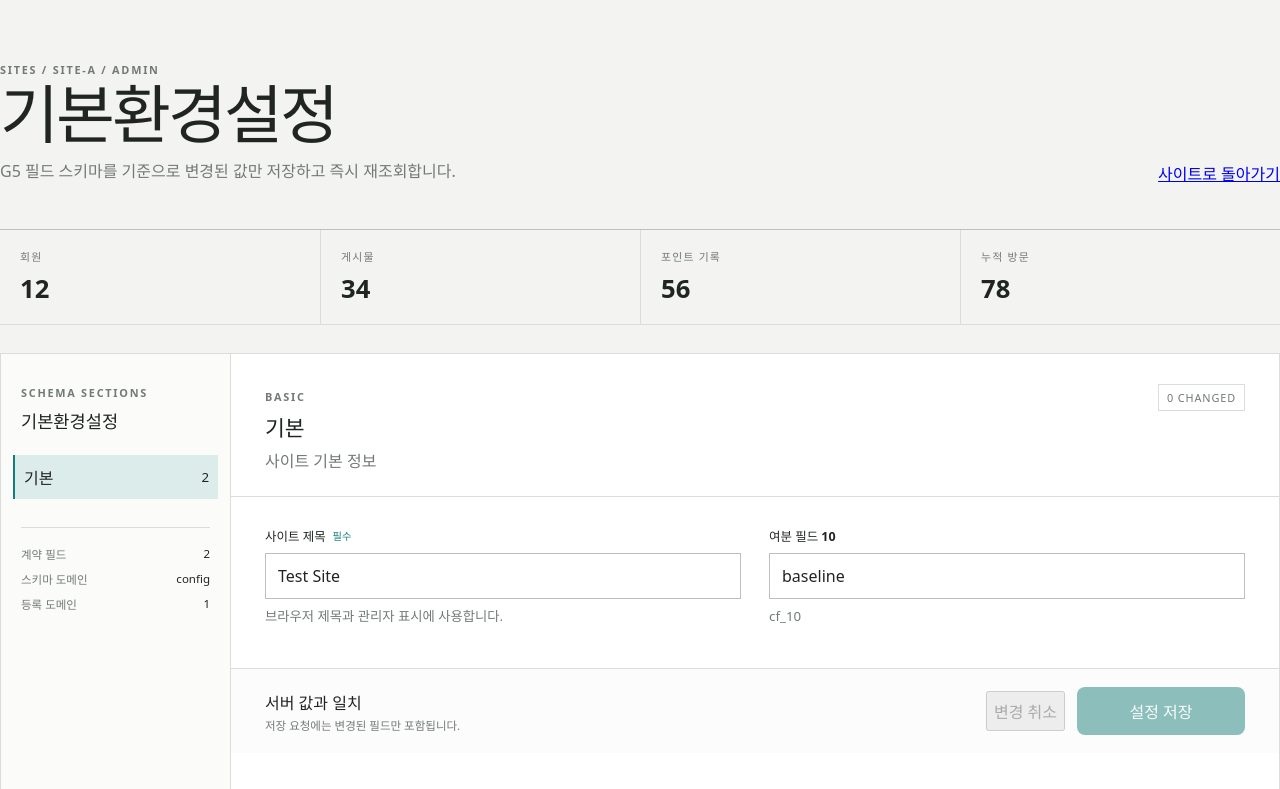
Test: AdminConfigWorkspacePage › blocks invalid required values and exposes the field error
Clear the field labelled "사이트 제목 필수 브라우저 제목과 관리자 표시에 사용합니다." at (503, 576), box [265,553,741,599]
(page scrolled)
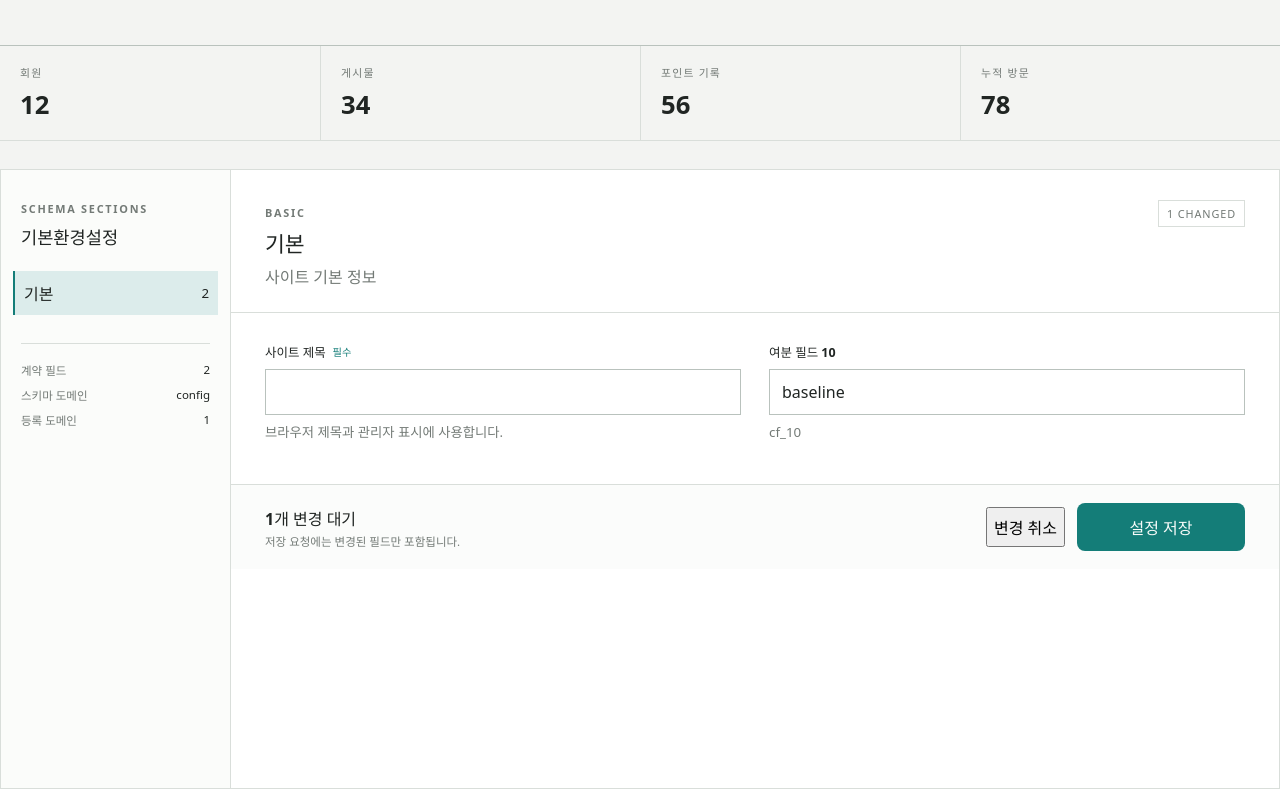
Submit the form named "사이트 제목"
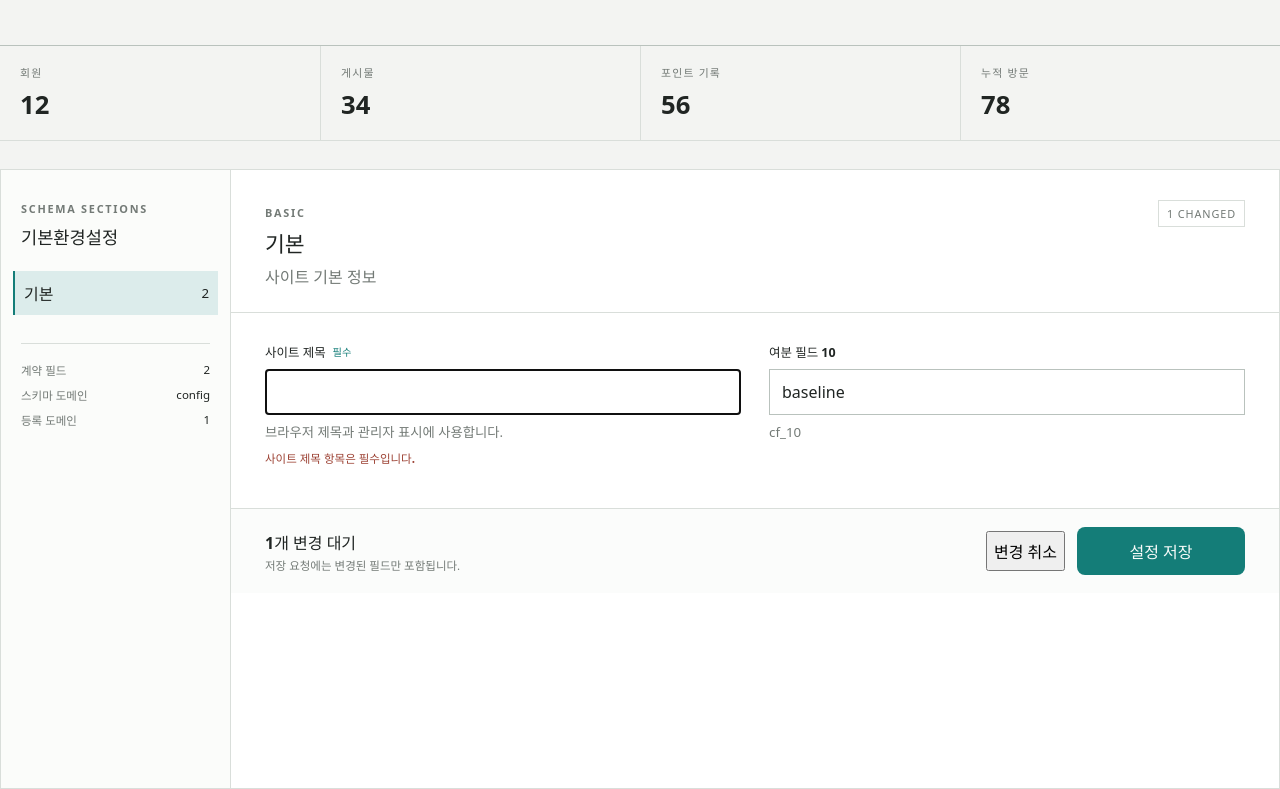
Check: the text "사이트 제목 항목은 필수입니다." is shown, box [265,451,415,466]
